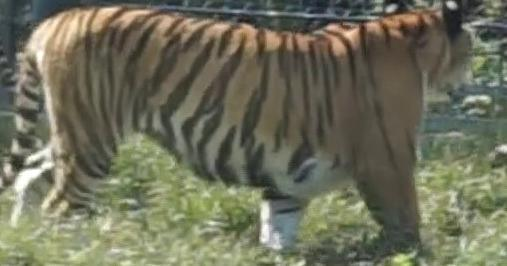tiger: (17, 0, 470, 248)
